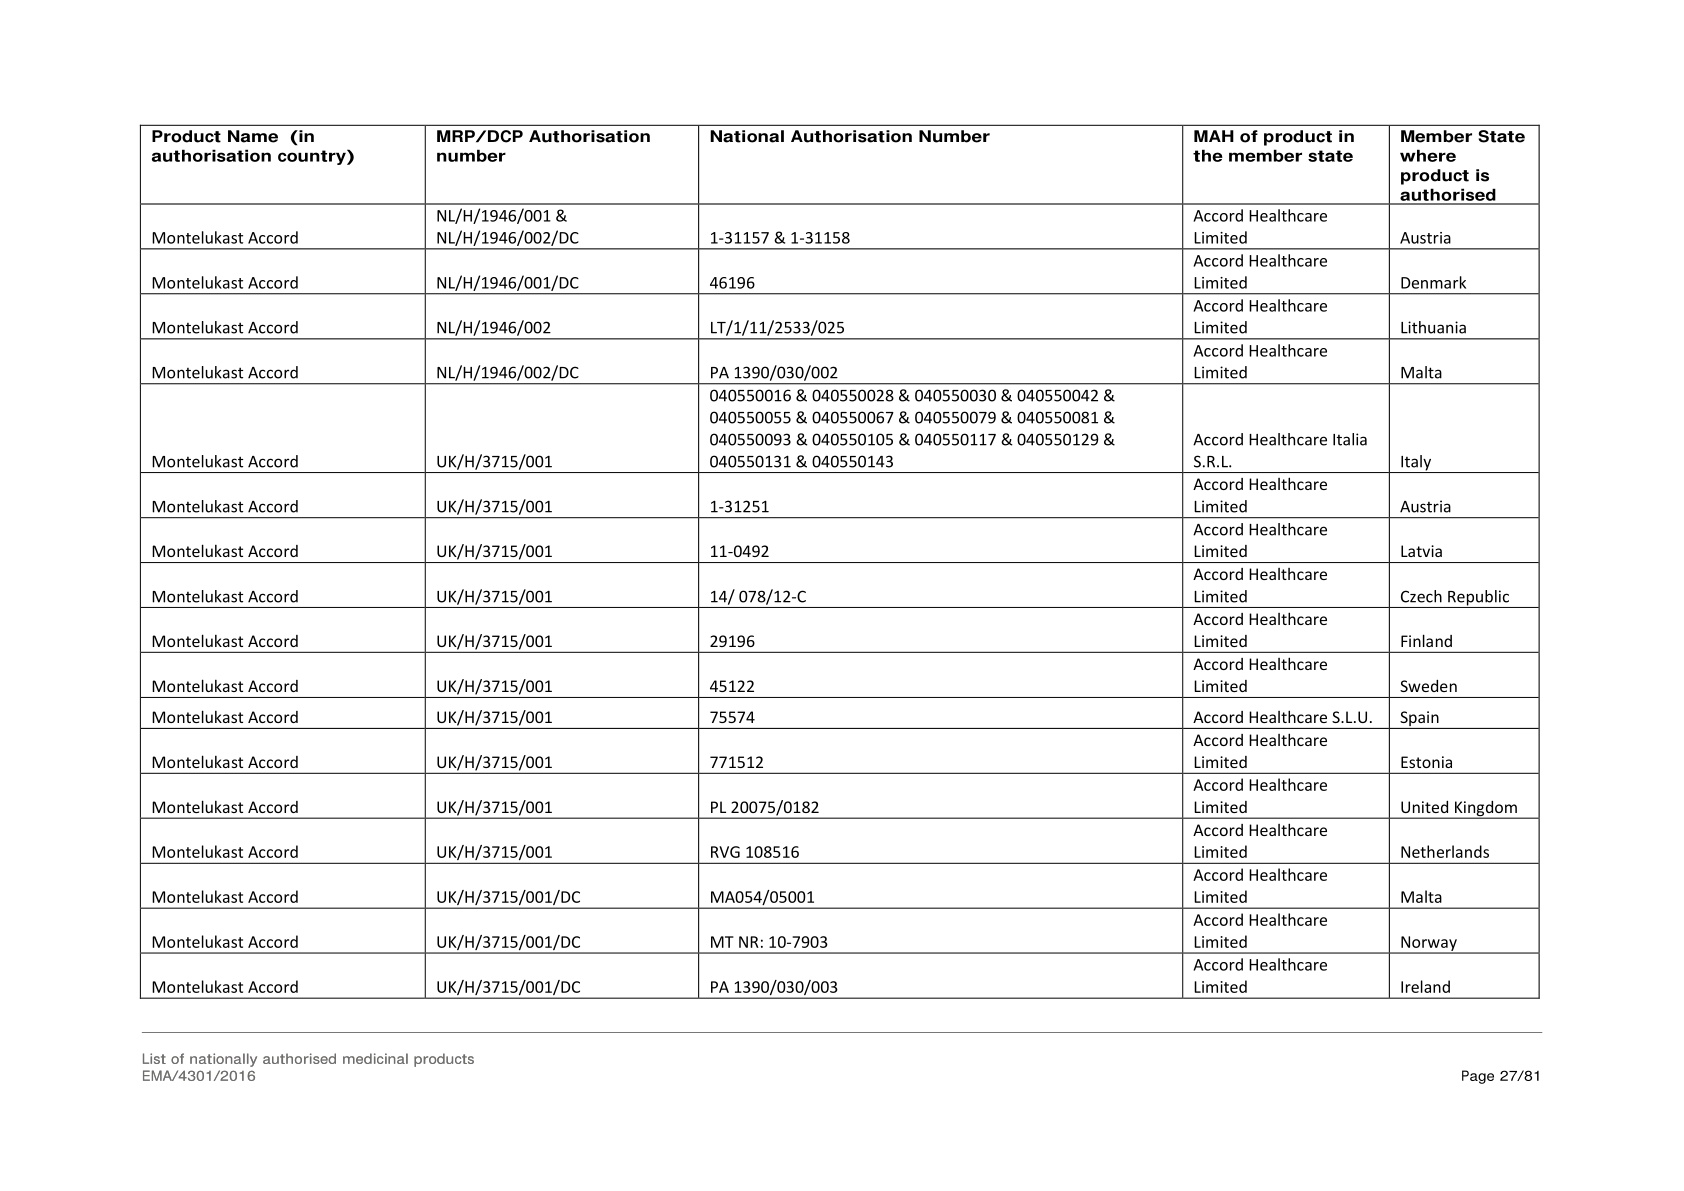full_lined: (138, 122, 1540, 999)
